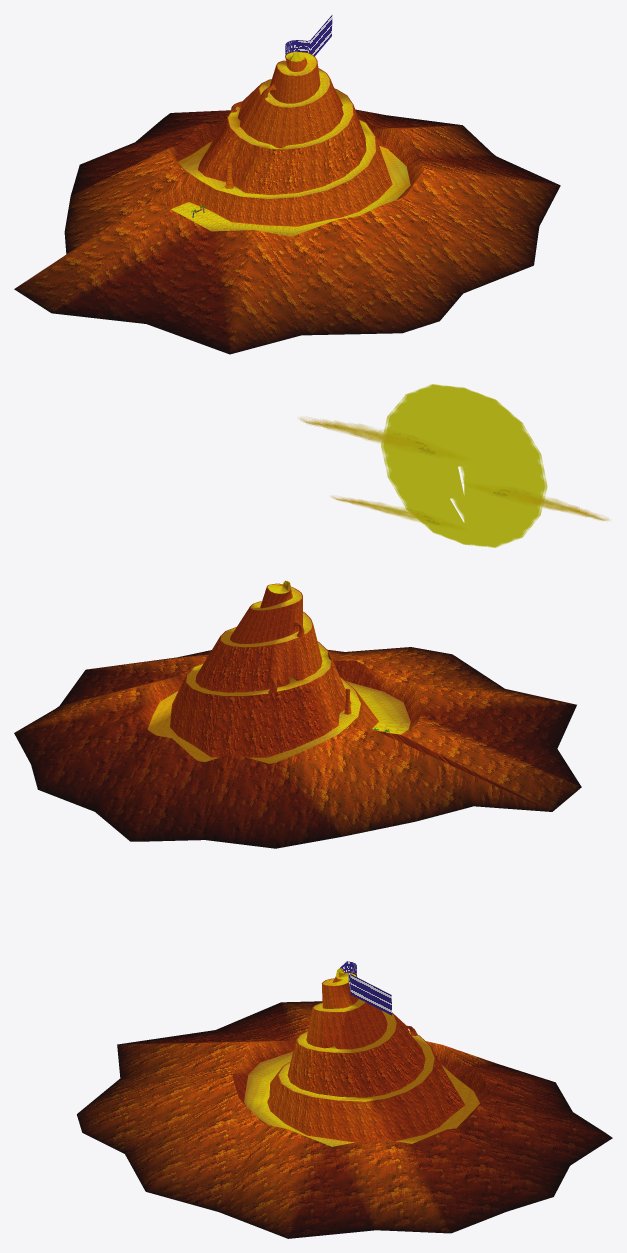
File: TrickyTops.glb
3 renders of one model, top to bottom at view 1: azimuth 30°, elevation 25°; view 2: azimuth 150°, elevation 25°; view 3: azimuth 270°, elevation 25°, orthographic. The views are drawn at different scales.
Parts seen in each view (by area): view 1: TrickyTops_3, TrickyTops_6, TrickyTops_Alpha_10; view 2: TrickyTops_3, TrickyTops_Alpha_18, TrickyTops_6, TrickyTops_Alpha_17; view 3: TrickyTops_3, TrickyTops_6, TrickyTops_Alpha_10.
Part boxes in pixels (x1,y1,x2,y2): TrickyTops_3: (14, 51, 560, 354); TrickyTops_6: (171, 60, 410, 236); TrickyTops_Alpha_10: (192, 15, 332, 217); TrickyTops_3: (14, 583, 581, 848); TrickyTops_Alpha_18: (381, 384, 547, 547); TrickyTops_6: (147, 584, 410, 763); TrickyTops_Alpha_17: (300, 417, 608, 529); TrickyTops_3: (77, 972, 612, 1238); TrickyTops_6: (244, 978, 479, 1146); TrickyTops_Alpha_10: (340, 961, 391, 1015).
Bounding box in the file's own units: 2500 × 1153 × 2657.
Materials: 19 (19 with a texture image).
